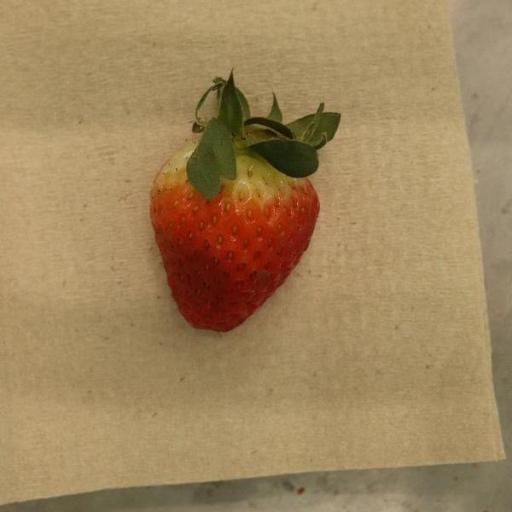Strawberry: (150, 72, 340, 332)
